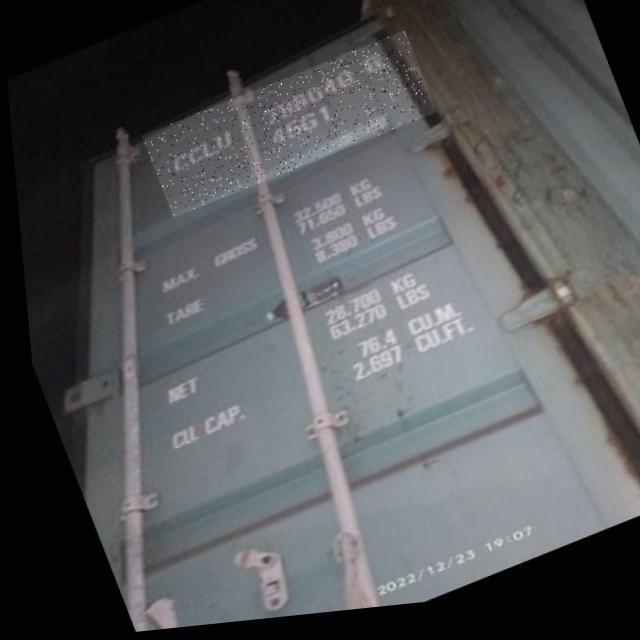ISO: (264, 103, 344, 151)
container_number: (168, 44, 390, 172)
